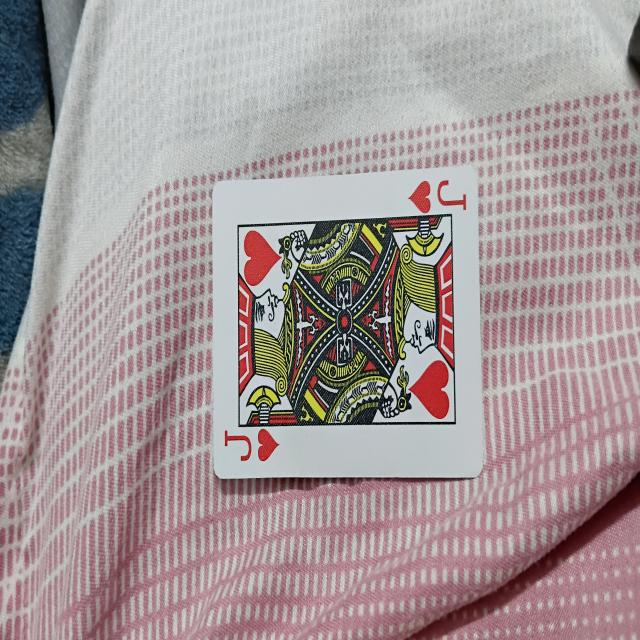JH: (210, 177, 483, 479)
